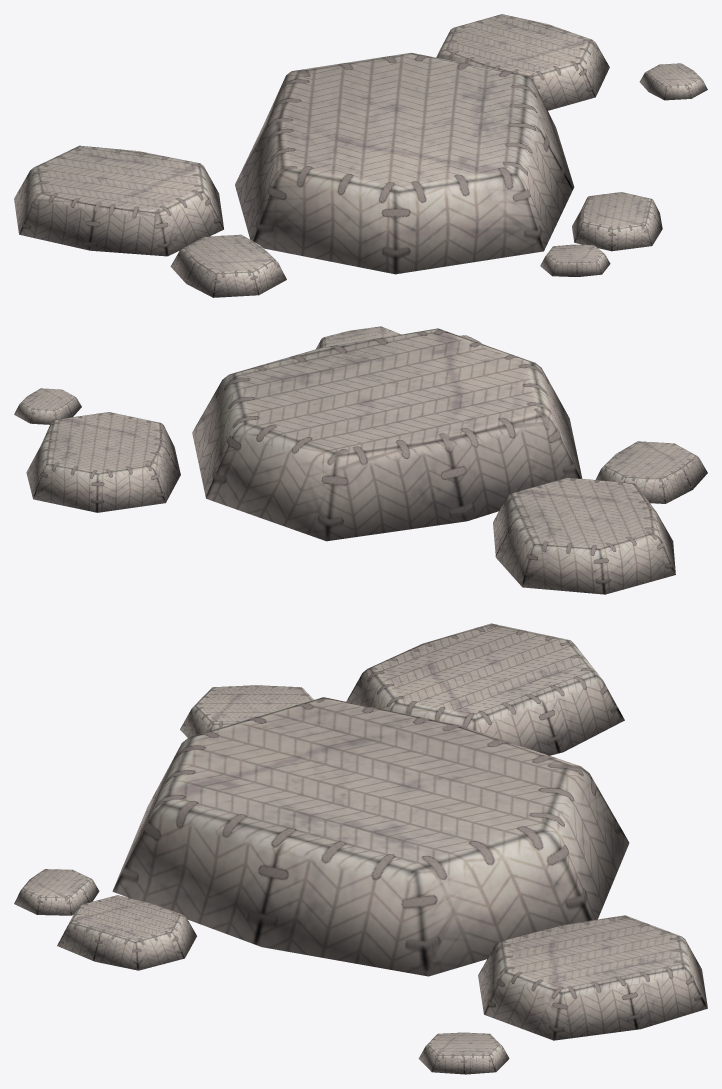
File: lpb_cs_Stone2.fbx
3 renders of one model, top to bottom at view 1: azimuth 30°, elevation 25°; view 2: azimuth 150°, elevation 25°; view 3: azimuth 270°, elevation 25°, orthographic. The views are drawn at different scales.
Parts seen in each view (by area): view 1: lpb_cs_Stone2; view 2: lpb_cs_Stone2; view 3: lpb_cs_Stone2.
Part boxes in pixels (x1,y1,x2,y2): lpb_cs_Stone2: (14, 14, 707, 297); lpb_cs_Stone2: (14, 326, 707, 594); lpb_cs_Stone2: (14, 623, 707, 1074).
Size of the model in its own units: 100 by 9.51 by 70.41.
